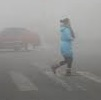person: (52, 17, 78, 78)
